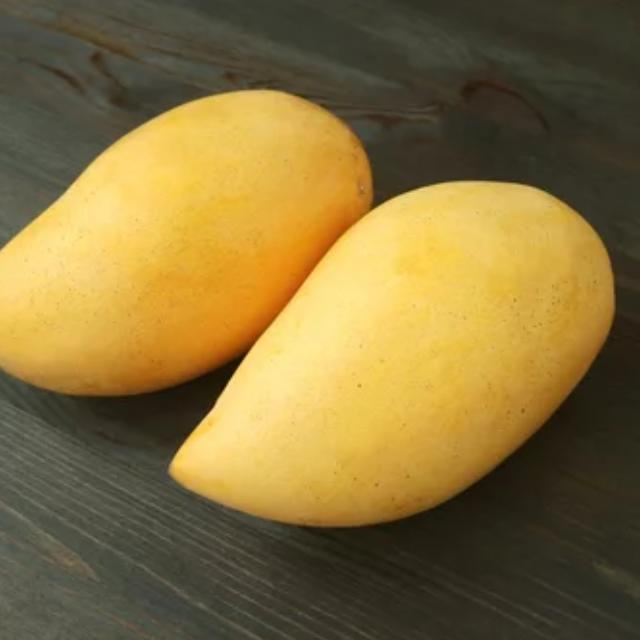mango: (167, 176, 618, 530), (0, 87, 374, 400)
